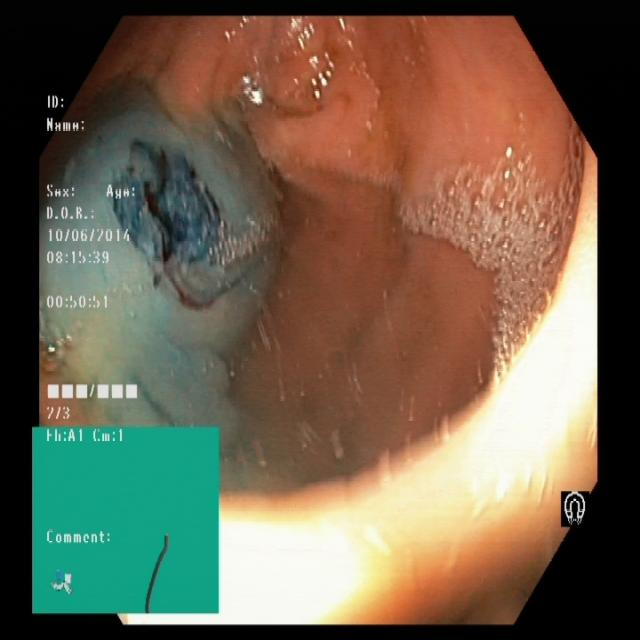dyed-resection-margins: (89, 123, 253, 311)
